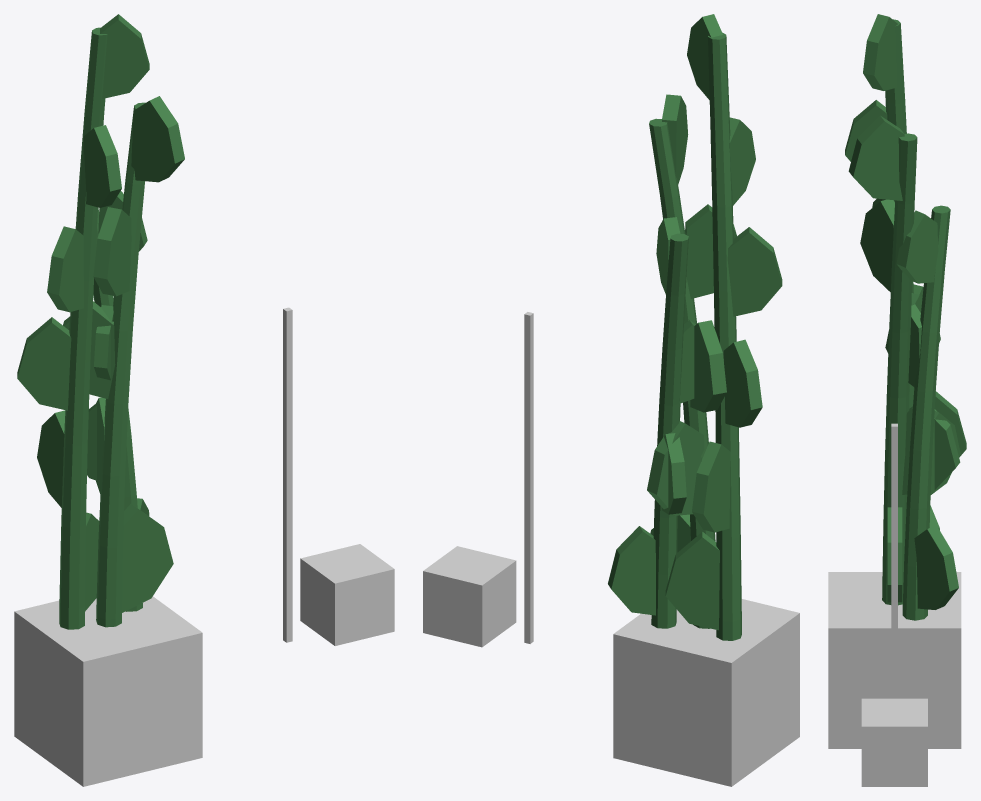
Rendered from Kelp_LOD0_roblox.fbx.
The picture shows the model from 3 angles, left to right: view 1: azimuth 30°, elevation 25°; view 2: azimuth 150°, elevation 25°; view 3: azimuth 270°, elevation 25°; orthographic projection. The views are drawn at different scales.
Parts seen in each view (by area): view 1: Kelp_GreenMat, Ref_Head, 1_Stud_Cube, 5.3_Stud_Height_Ruler; view 2: Kelp_GreenMat, Ref_Head, 1_Stud_Cube, 5.3_Stud_Height_Ruler; view 3: Kelp_GreenMat, Ref_Head, 1_Stud_Cube, 5.3_Stud_Height_Ruler.
Boxes of the visible parts, <box> form: Kelp_GreenMat: <box>17,14,184,629</box>; Ref_Head: <box>14,596,202,786</box>; 1_Stud_Cube: <box>300,544,394,645</box>; 5.3_Stud_Height_Ruler: <box>283,307,292,642</box>; Kelp_GreenMat: <box>608,14,782,640</box>; Ref_Head: <box>613,599,799,786</box>; 1_Stud_Cube: <box>423,546,516,647</box>; 5.3_Stud_Height_Ruler: <box>524,312,533,643</box>; Kelp_GreenMat: <box>845,14,966,620</box>; Ref_Head: <box>828,572,961,748</box>; 1_Stud_Cube: <box>861,698,927,786</box>; 5.3_Stud_Height_Ruler: <box>891,423,897,698</box>.
Size of the model in its own units: 5.74 by 2.08 by 11.73.
